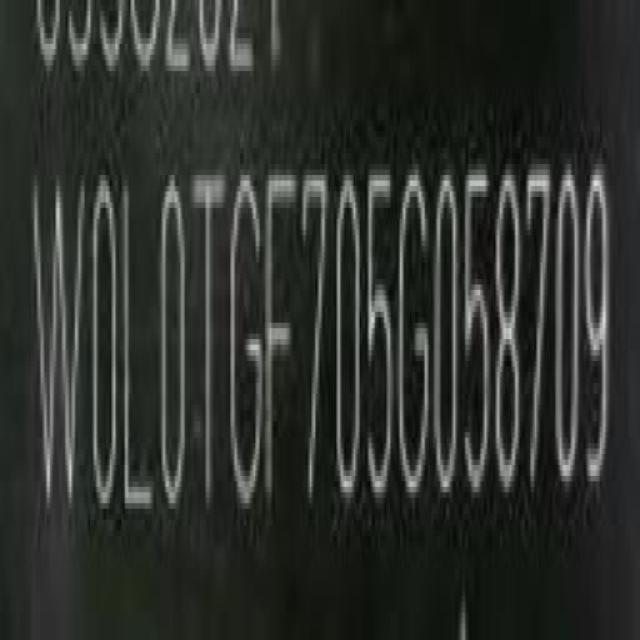0: (90, 174, 122, 531), (334, 169, 364, 523), (551, 161, 580, 498), (434, 167, 461, 508)
5: (365, 167, 397, 515), (462, 164, 489, 507)
7: (298, 168, 332, 527), (526, 161, 552, 498)
8: (496, 163, 524, 502)
9: (586, 170, 615, 492)
D: (156, 175, 191, 530)
F: (265, 167, 296, 529)
G: (227, 171, 263, 530), (398, 172, 432, 507)
L: (124, 175, 158, 532)
T: (194, 167, 226, 532)
W: (35, 169, 85, 533)
